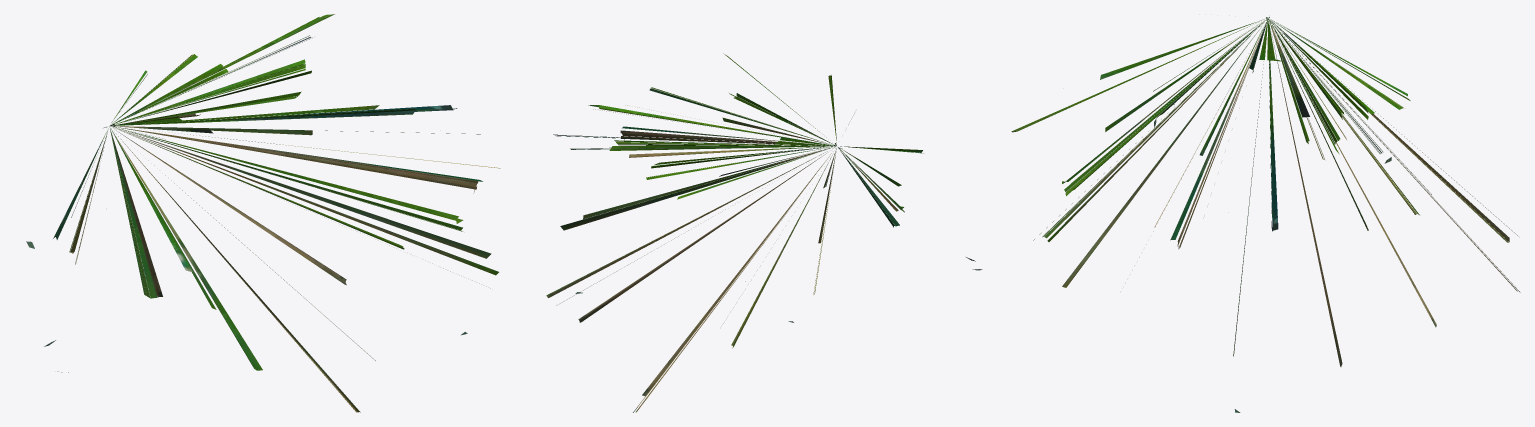
Rendered from nature_oak_large_03.glb.
3 renders of one model, left to right at view 1: azimuth 30°, elevation 25°; view 2: azimuth 150°, elevation 25°; view 3: azimuth 270°, elevation 25°, orthographic. The views are drawn at different scales.
Parts seen in each view (by area): view 1: geometry_0; view 2: geometry_0; view 3: geometry_0.
Boxes of the visible parts, bbox=[...] form: geometry_0: bbox=[26, 14, 500, 412]; geometry_0: bbox=[546, 53, 982, 412]; geometry_0: bbox=[1011, 17, 1520, 412].
Size of the model in its own units: 0.8817 by 0.5313 by 0.9055.
Materials: 1 (1 with a texture image).
